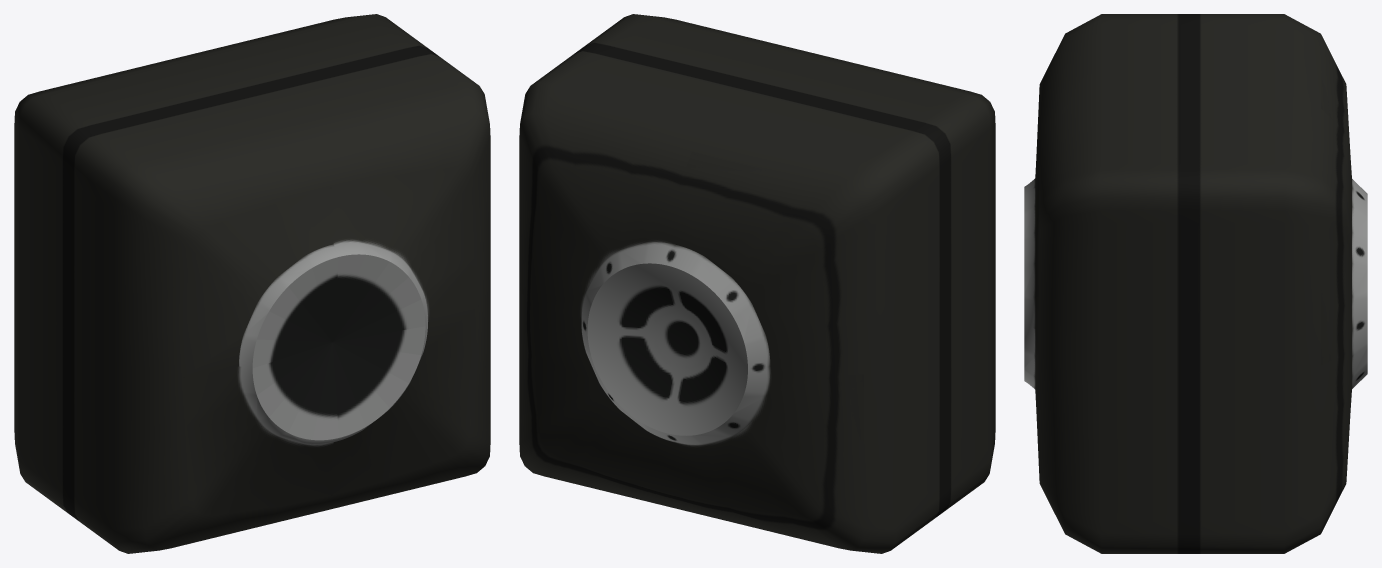
Rendered from wheel-square.glb.
The picture shows the model from 3 angles, left to right: view 1: azimuth 30°, elevation 25°; view 2: azimuth 150°, elevation 25°; view 3: azimuth 270°, elevation 25°; orthographic projection. The views are drawn at different scales.
Visible parts, largest first — view 1: Wheel.Square.Source; view 2: Wheel.Square.Source; view 3: Wheel.Square.Source.
Boxes of the visible parts, bbox=[...] form: Wheel.Square.Source: bbox=[14, 14, 490, 553]; Wheel.Square.Source: bbox=[519, 14, 995, 553]; Wheel.Square.Source: bbox=[1024, 14, 1367, 553].
Size of the model in its own units: 0.4911 by 0.4911 by 0.4033.
Materials: 1 (1 with a texture image).
